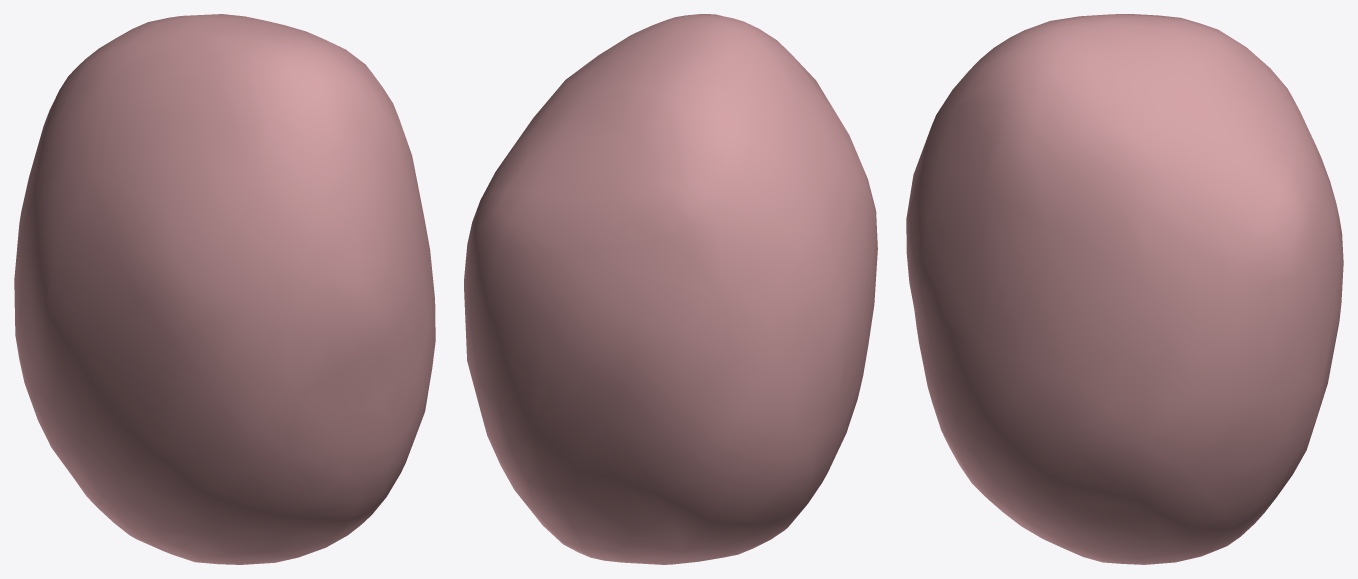
3 renders of one model, left to right at view 1: azimuth 30°, elevation 25°; view 2: azimuth 150°, elevation 25°; view 3: azimuth 270°, elevation 25°, orthographic. The views are drawn at different scales.
Visible parts, largest first — view 1: ZA_fa6a4ada5e35b202; view 2: ZA_fa6a4ada5e35b202; view 3: ZA_fa6a4ada5e35b202.
Boxes of the visible parts, x1,y1,x2,y2 form: ZA_fa6a4ada5e35b202: (14,14,435,564); ZA_fa6a4ada5e35b202: (464,14,877,564); ZA_fa6a4ada5e35b202: (906,14,1343,564).
Size of the model in its own units: 0.0211 by 0.0295 by 0.0227.
